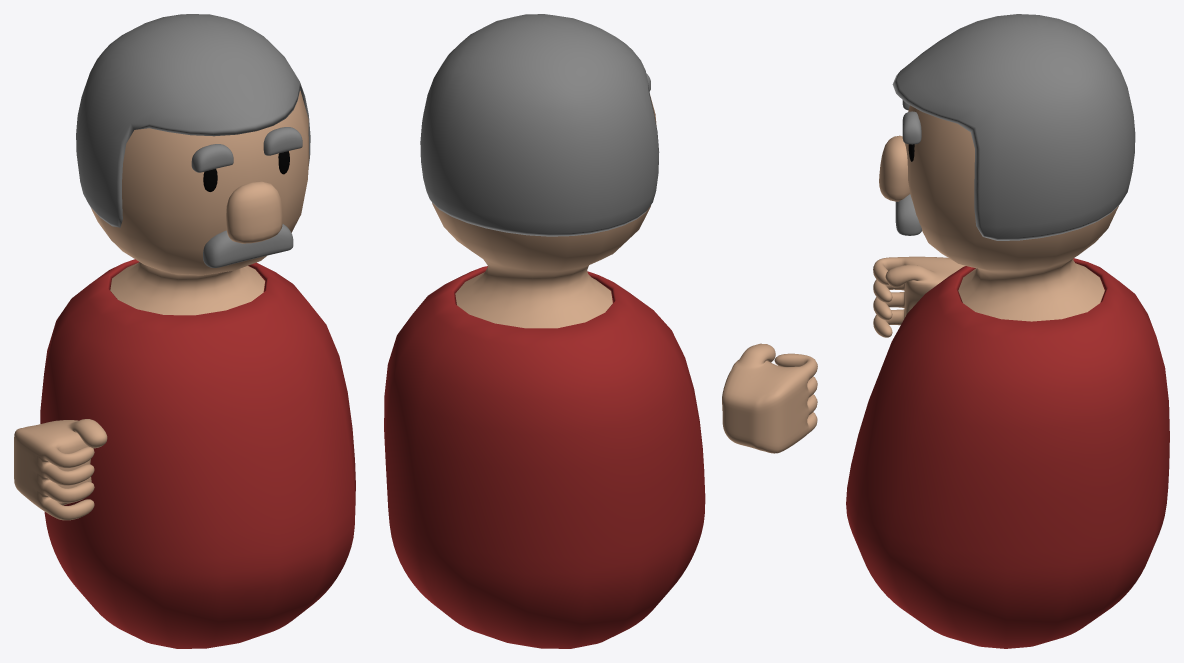
Rendered from daddy.fbx.
3 renders of one model, left to right at view 1: azimuth 30°, elevation 25°; view 2: azimuth 150°, elevation 25°; view 3: azimuth 270°, elevation 25°, orthographic.
Parts seen in each view (by area): view 1: Cube, Cube.007; view 2: Cube, Cube.007; view 3: Cube, Cube.007.
Boxes of the visible parts, x1,y1,x2,y2 form: Cube: (40, 14, 355, 648); Cube.007: (14, 419, 107, 520); Cube: (384, 14, 705, 648); Cube.007: (722, 343, 817, 453); Cube: (846, 14, 1169, 648); Cube.007: (873, 256, 965, 337).
Size of the model in its own units: 199 by 334 by 162.
